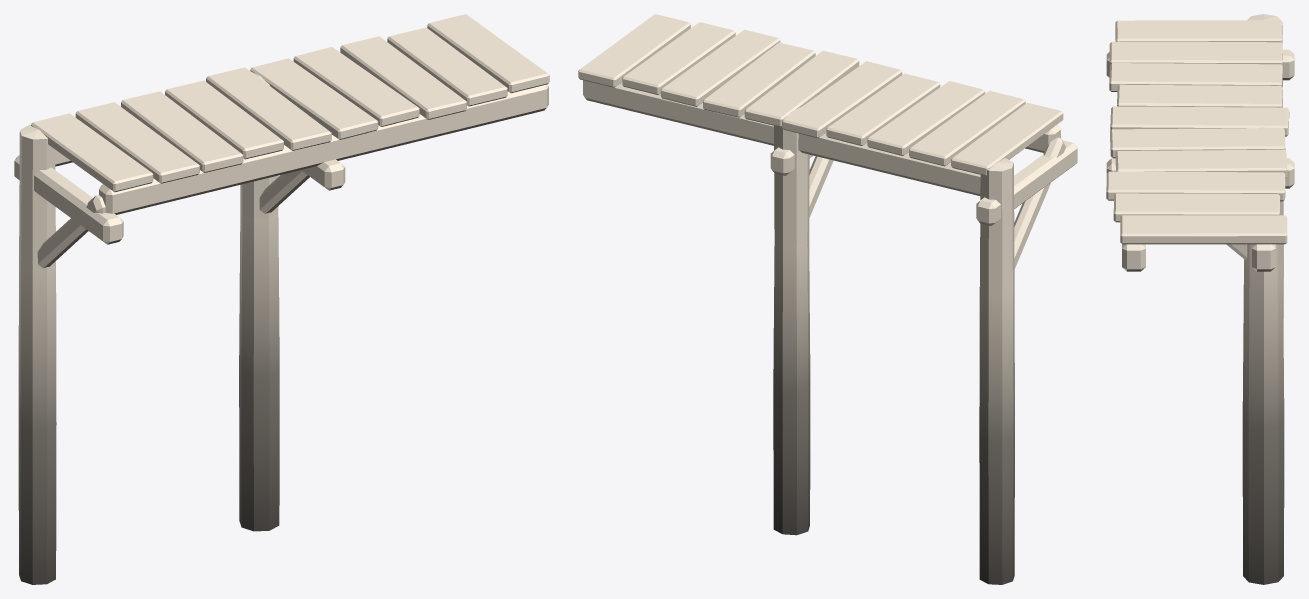
File: SM_VK_Palisade_Walk.fbx
3 views of the same model, side by side, from view 1: azimuth 30°, elevation 25°; view 2: azimuth 150°, elevation 25°; view 3: azimuth 270°, elevation 25° (orthographic). The views are drawn at different scales.
Visible parts, largest first — view 1: SM_VK_Palisade_Walk.001; view 2: SM_VK_Palisade_Walk.001; view 3: SM_VK_Palisade_Walk.001.
Part boxes in pixels (x1,y1,x2,y2): SM_VK_Palisade_Walk.001: (14, 14, 549, 584); SM_VK_Palisade_Walk.001: (578, 14, 1077, 584); SM_VK_Palisade_Walk.001: (1106, 14, 1294, 584).
Bounding box in the file's own units: 3.11 × 2.9 × 1.1.
